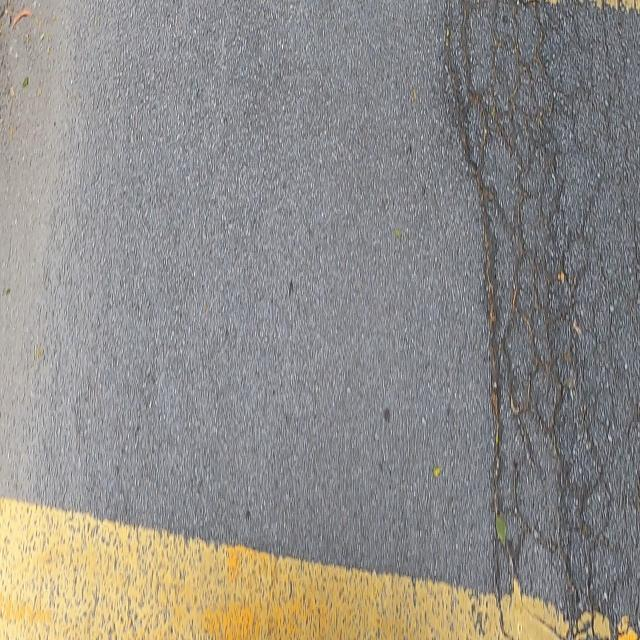Retak-Buaya: (442, 0, 640, 640)
